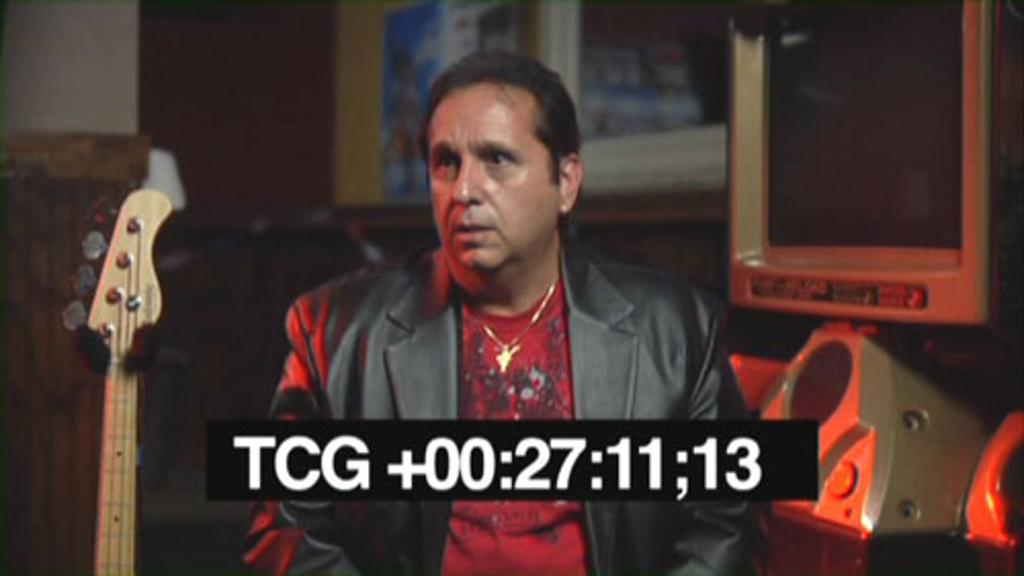face: (432, 84, 560, 274)
